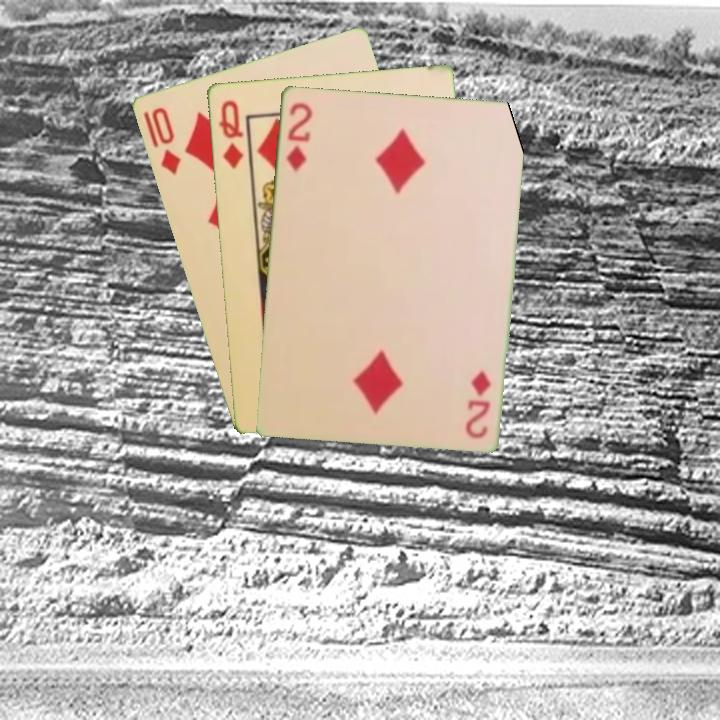10d: (139, 103, 183, 178)
2d: (282, 98, 315, 174), (464, 367, 493, 441)
Qd: (214, 96, 246, 172)
